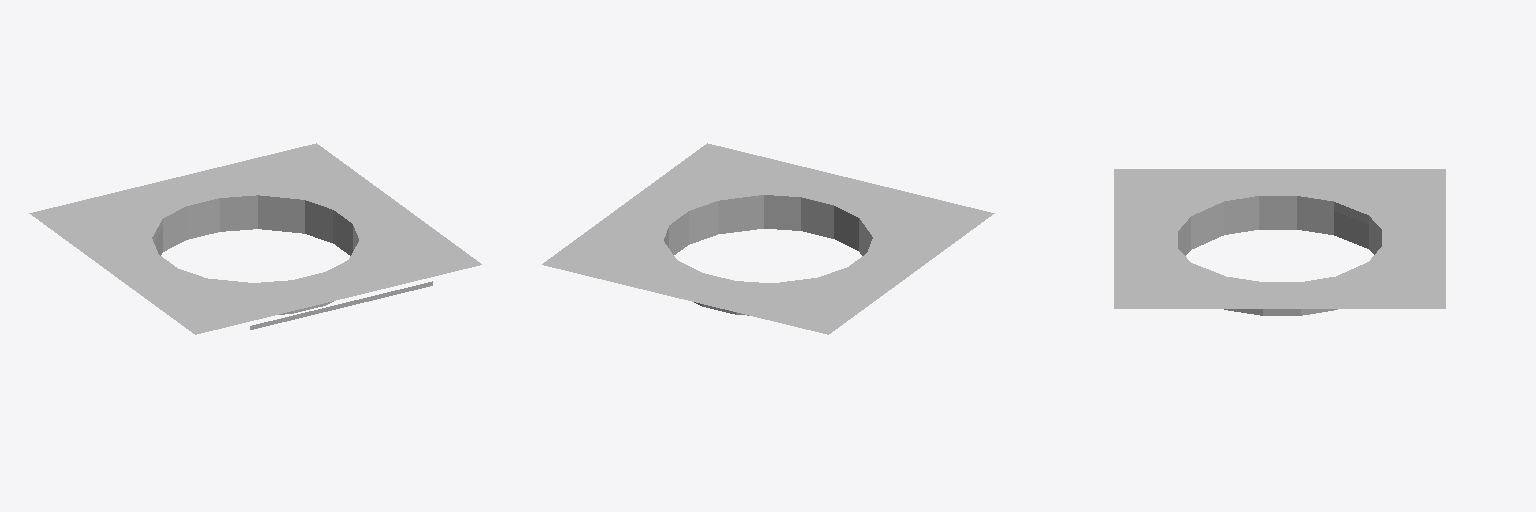
Rendered from mGroundLv2.obj.
The picture shows the model from 3 angles: view 1: azimuth 30°, elevation 25°; view 2: azimuth 150°, elevation 25°; view 3: azimuth 270°, elevation 25°; orthographic projection.
Parts seen in each view (by area): view 1: mGroundLv2; view 2: mGroundLv2; view 3: mGroundLv2.
Boxes of the visible parts, box(x1,y1,x2,y2) form: mGroundLv2: box(29, 143, 481, 334); mGroundLv2: box(542, 143, 994, 334); mGroundLv2: box(1114, 169, 1445, 315).
Size of the model in its own units: 72 by 8.09 by 72.